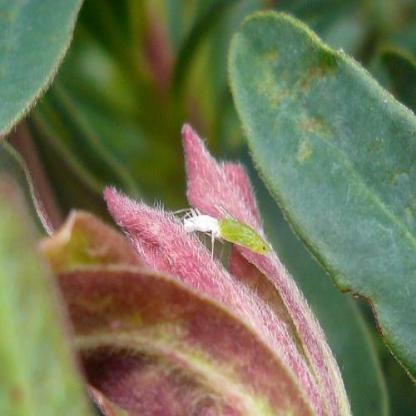aphid: (176, 196, 274, 268)
